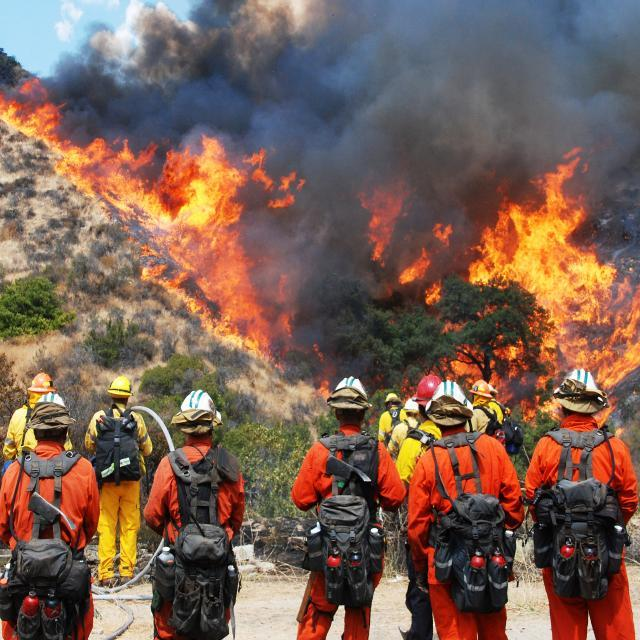Fire: (0, 76, 291, 360), (469, 139, 640, 415), (352, 164, 401, 273), (396, 221, 448, 306)
Smoke: (47, 0, 640, 257), (229, 199, 356, 317)
